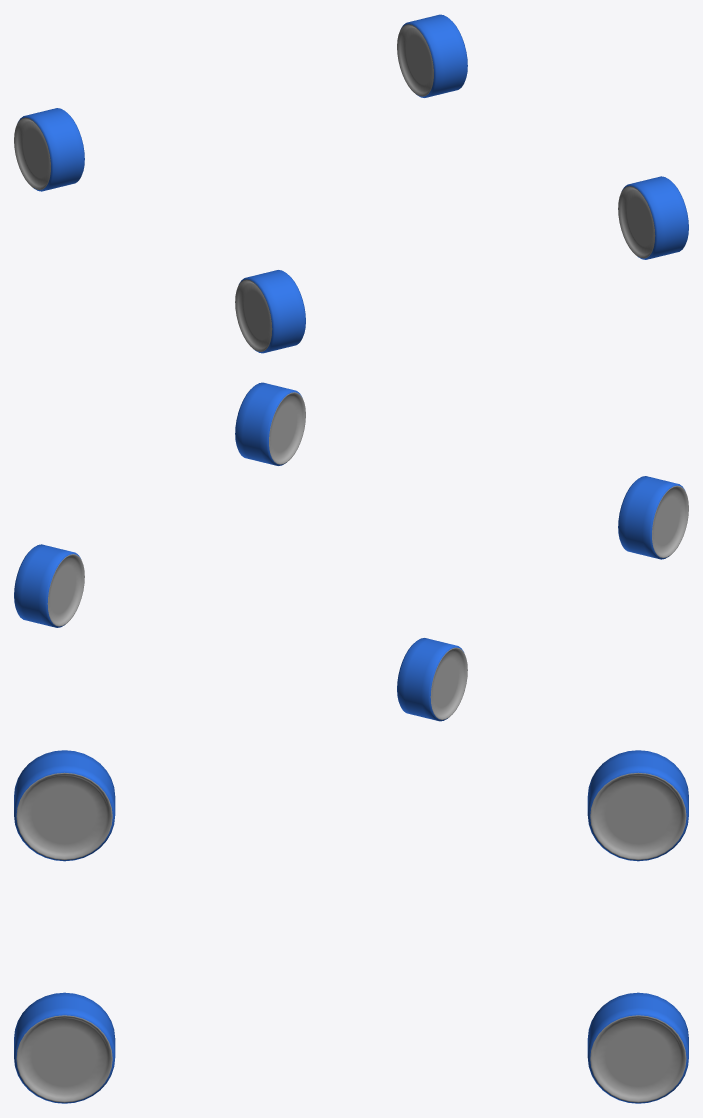
File: Drivetrain_Wheels.fbx
The picture shows the model from 3 angles, top to bottom: view 1: azimuth 30°, elevation 25°; view 2: azimuth 150°, elevation 25°; view 3: azimuth 270°, elevation 25°; orthographic projection. The views are drawn at different scales.
Parts seen in each view (by area): view 1: Wheel_BL, Wheel_FR, Wheel_FL, Wheel_BR; view 2: Wheel_FL, Wheel_BR, Wheel_BL, Wheel_FR; view 3: Wheel_FL, Wheel_BL, Wheel_BR, Wheel_FR.
Boxes of the visible parts, <box> form: Wheel_BL: <box>235,270,305,353</box>; Wheel_FR: <box>397,14,467,97</box>; Wheel_FL: <box>14,108,84,191</box>; Wheel_BR: <box>618,176,688,259</box>; Wheel_FL: <box>397,638,467,721</box>; Wheel_BR: <box>235,382,305,465</box>; Wheel_BL: <box>618,476,688,559</box>; Wheel_FR: <box>14,544,84,627</box>; Wheel_FL: <box>587,750,688,861</box>; Wheel_BL: <box>14,750,115,861</box>; Wheel_BR: <box>14,992,115,1103</box>; Wheel_FR: <box>587,992,688,1103</box>.
Size of the model in its own units: 141 by 22.86 by 152.
